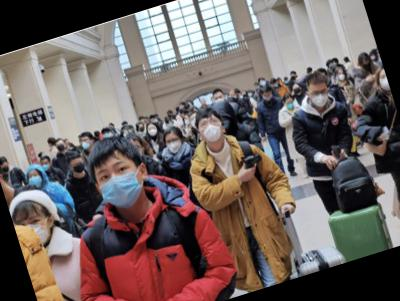with_mask: (92, 154, 151, 215), (14, 208, 57, 254), (196, 113, 228, 146), (308, 84, 332, 108), (164, 133, 185, 155), (26, 168, 46, 190), (376, 70, 390, 92), (70, 158, 88, 175), (40, 157, 54, 173), (80, 135, 94, 150), (188, 113, 201, 129), (359, 57, 374, 70), (146, 125, 159, 138), (283, 98, 296, 111), (213, 92, 226, 104), (335, 69, 347, 82), (55, 141, 68, 152), (102, 128, 114, 139), (262, 91, 274, 102), (0, 162, 11, 173), (292, 83, 302, 94), (259, 78, 268, 87), (165, 119, 173, 128), (138, 123, 146, 131), (271, 81, 279, 88)
without_mask: (200, 99, 208, 106)
